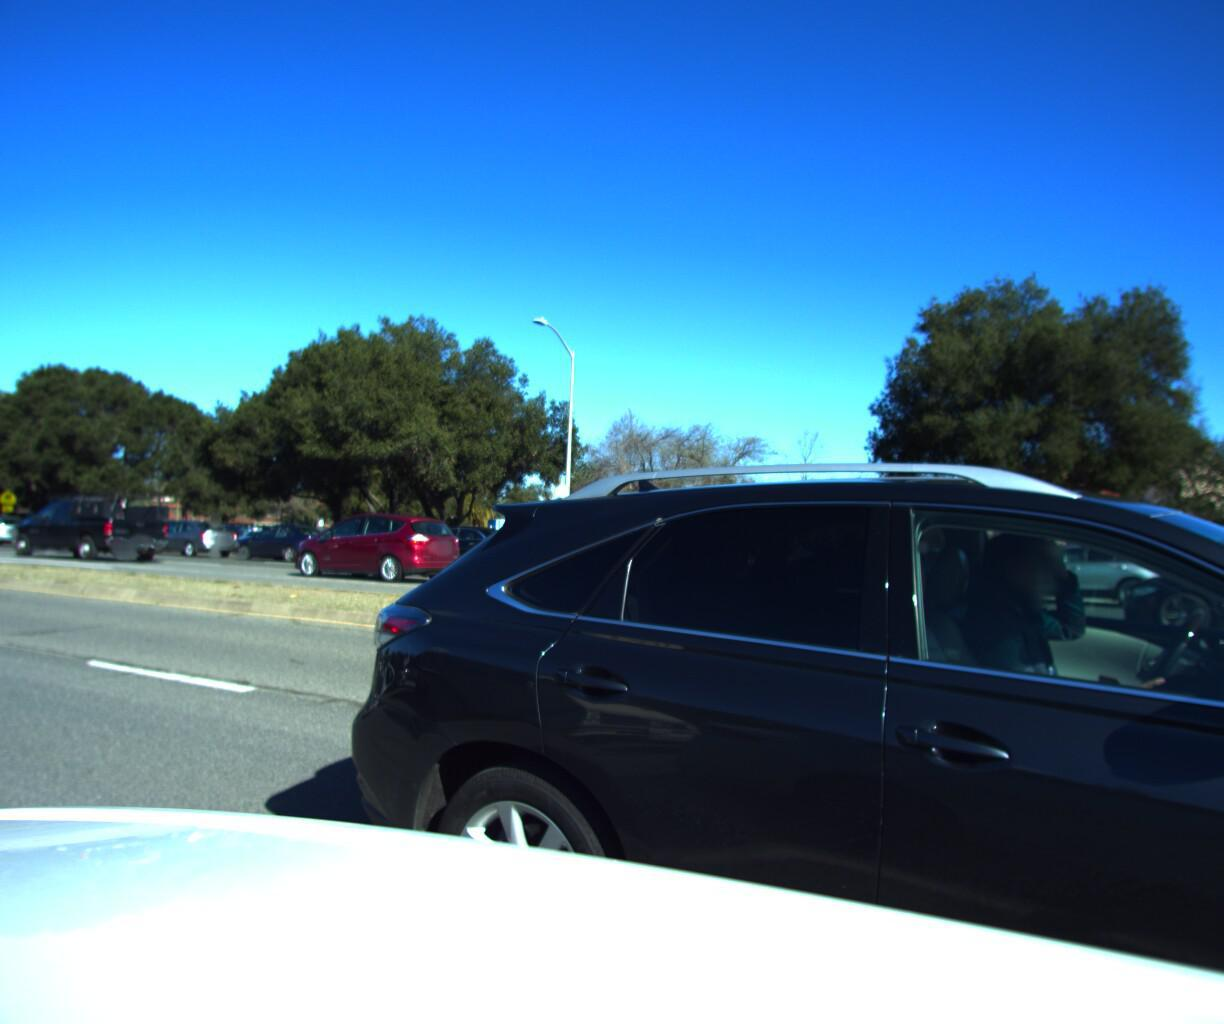car: (257, 372, 1224, 1024), (958, 529, 1186, 613), (276, 501, 474, 582), (1109, 533, 1224, 664), (2, 484, 176, 559), (387, 518, 545, 573), (222, 515, 344, 559), (127, 513, 244, 555), (0, 508, 39, 543), (0, 490, 10, 613)
